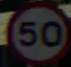Speed limit: (7, 3, 66, 57)
